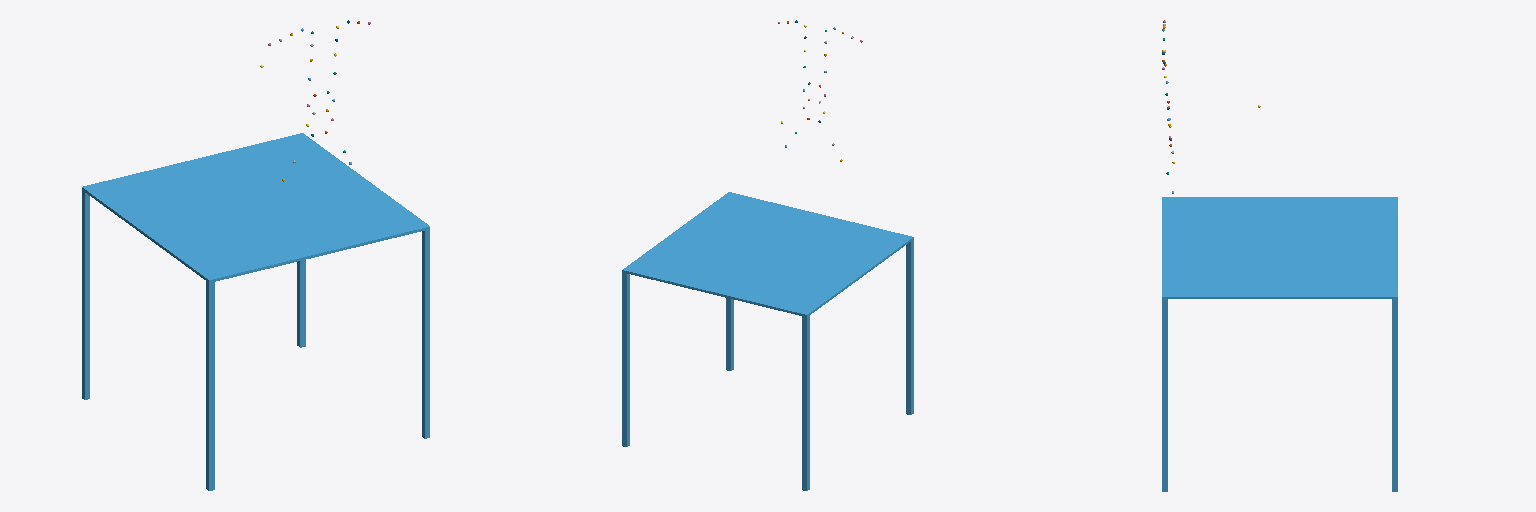
The robot description file, URDF, robot "p72":
<robot name="p72">
  <link name="base_link">  
    <visual>
      <origin xyz="0 0 0" rpy="0 0 0" />
      <geometry>
        <mesh filename="package://rob4fam-models/meshes/P72.stl" scale="0.01 0.01 0.01"/>
      </geometry>
       <material name="Red">
         <color rgba="1. 0.1 0.1 1.0"/>
       </material>
    </visual>
    <collision>
      <origin xyz="0 0 0" rpy="0 0 0" />
      <geometry>
        <mesh filename="package://rob4fam-models/meshes/P72.stl"  scale="0.01 0.01 0.01"/>
      </geometry>
    </collision>
    <collision>
      <origin xyz="0.05 -0.0422962331772 0.0814425373077" />
      <geometry>
        <box size="0.6 0.15 0.15"/>
      </geometry>
    </collision>
    <inertial>
      <mass value="2.2"/>
      <origin xyz="0 0 0" rpy="0 0 0"/>
      <inertia ixx="0.1"  ixy="0"  ixz="0" iyy="0.1" iyz="0" izz="0.1" />
    </inertial>
  </link>

  <!-- Table -->
  <joint name="to_table" type="fixed">
    <parent link="base_link"/>
    <child link="table_link"/>
    <origin xyz="0.0 0.35 -0.8"/>
  </joint>

  <link name="table_link">
    <visual>
      <origin xyz="0 0 .725"/>
      <geometry>
        <box size="0.8 0.8 .01"/>
      </geometry>
    </visual>
    <visual>
      <origin xyz=".39 .39 .36"/>
      <geometry>
        <box size=".02 .02 .72"/>
      </geometry>
    </visual>
    <visual>
      <origin xyz="-.39 .39 .36"/>
      <geometry>
        <box size=".02 .02 .72"/>
      </geometry>
    </visual>
    <visual>
      <origin xyz="-.39 -.39 .36"/>
      <geometry>
        <box size=".02 .02 .72"/>
      </geometry>
    </visual>
    <visual>
      <origin xyz=".39 -.39 .36"/>
      <geometry>
        <box size=".02 .02 .72"/>
      </geometry>
    </visual>

    <collision>
      <origin xyz="0 0 .725"/>
      <geometry>
        <box size="0.84 .84 .01"/>
      </geometry>
    </collision>
    <collision>
      <origin xyz=".39 .39 .36"/>
      <geometry>
        <box size=".02 .02 .72"/>
      </geometry>
    </collision>
    <collision>
      <origin xyz="-.39 .39 .36"/>
      <geometry>
        <box size=".02 .02 .72"/>
      </geometry>
    </collision>
    <collision>
      <origin xyz="-.39 -.39 .36"/>
      <geometry>
        <box size=".02 .02 .72"/>
      </geometry>
    </collision>
    <collision>
      <origin xyz=".39 -.39 .36"/>
      <geometry>
        <box size=".02 .02 .72"/>
      </geometry>
    </collision>
    <inertial>
      <mass value="2.2"/>
      <origin xyz="0 0 0.65" rpy="0 0 0"/>
      <inertia ixx="0.1"  ixy="0"  ixz="0" iyy="0.1" iyz="0" izz="0.1" />
    </inertial>
  </link>

    

     
      <link name="tag36_11_00015">
        <visual>
          <geometry>
            <mesh filename="package://gerard_bauzil/meshes/apriltag_36h11/tag36_11_00015.dae" scale="0.0845 0.0845 1."/>
          </geometry>
        </visual>
      </link>
      <joint name="to_tag_00015" type="fixed">
        <parent link="base_link"/>
        <child link="tag36_11_00015"/>
        <origin xyz="-0.132714992453 -0.0338492746834 0.546713277339" rpy="1.63558443485 -0.0100636021863 -0.0123677826844"/>
      </joint>
      <link name="tag36_11_00001">
        <visual>
          <geometry>
            <mesh filename="package://gerard_bauzil/meshes/apriltag_36h11/tag36_11_00001.dae" scale="0.0845 0.0845 1."/>
          </geometry>
        </visual>
      </link>
      <joint name="to_tag_00001" type="fixed">
        <parent link="base_link"/>
        <child link="tag36_11_00001"/>
        <origin xyz="0.18653859187 -0.0196014914218 0.269465194263" rpy="1.63558746674 -0.0144699196329 -0.0126531905553"/>
      </joint>
      <link name="tag36_11_00005">
        <visual>
          <geometry>
            <mesh filename="package://gerard_bauzil/meshes/apriltag_36h11/tag36_11_00005.dae" scale="0.0845 0.0845 1."/>
          </geometry>
        </visual>
      </link>
      <joint name="to_tag_00005" type="fixed">
        <parent link="base_link"/>
        <child link="tag36_11_00005"/>
        <origin xyz="-0.135645574854 -0.0157158111433 0.267751334311" rpy="1.63558180009 -0.00482257928219 -0.012027253329"/>
      </joint>
      <link name="tag36_11_00006">
        <visual>
          <geometry>
            <mesh filename="package://gerard_bauzil/meshes/apriltag_36h11/tag36_11_00006.dae" scale="0.0845 0.0845 1."/>
          </geometry>
        </visual>
      </link>
      <joint name="to_tag_00006" type="fixed">
        <parent link="base_link"/>
        <child link="tag36_11_00006"/>
        <origin xyz="0.134585443857 -0.0411164973514 0.610456902789" rpy="1.63559209727 0.0180326638639 -0.0105442059083"/>
      </joint>
      <link name="tag36_11_00013">
        <visual>
          <geometry>
            <mesh filename="package://gerard_bauzil/meshes/apriltag_36h11/tag36_11_00013.dae" scale="0.0845 0.0845 1."/>
          </geometry>
        </visual>
      </link>
      <joint name="to_tag_00013" type="fixed">
        <parent link="base_link"/>
        <child link="tag36_11_00013"/>
        <origin xyz="0.304944047226 -0.0287312242645 0.388801820905" rpy="1.6355848352 -0.00977457775816 -0.0123488862354"/>
      </joint>
      <link name="tag36_11_00014">
        <visual>
          <geometry>
            <mesh filename="package://gerard_bauzil/meshes/apriltag_36h11/tag36_11_00014.dae" scale="0.0845 0.0845 1."/>
          </geometry>
        </visual>
      </link>
      <joint name="to_tag_00014" type="fixed">
        <parent link="base_link"/>
        <child link="tag36_11_00014"/>
        <origin xyz="0.296827784967 -0.045124035261 0.642929685157" rpy="1.63558319815 0.00794270375588 -0.0111994215125"/>
      </joint>
      <link name="tag36_11_00100">
        <visual>
          <geometry>
            <mesh filename="package://gerard_bauzil/meshes/apriltag_36h11/tag36_11_00100.dae" scale="0.06 0.06 1."/>
          </geometry>
        </visual>
      </link>
      <joint name="to_tag_00100" type="fixed">
        <parent link="base_link"/>
        <child link="tag36_11_00100"/>
        <origin xyz="0.0222953128123 -0.0362667618772 0.555983733047" rpy="1.63558356747 -0.00859777214559 -0.0122723765882"/>
      </joint>
      <link name="tag36_11_00101">
        <visual>
          <geometry>
            <mesh filename="package://gerard_bauzil/meshes/apriltag_36h11/tag36_11_00101.dae" scale="0.06 0.06 1."/>
          </geometry>
        </visual>
      </link>
      <joint name="to_tag_00101" type="fixed">
        <parent link="base_link"/>
        <child link="tag36_11_00101"/>
        <origin xyz="0.0256081102055 -0.0478418738267 0.733793315777" rpy="1.63558263935 -0.00712741235334 -0.0121767582087"/>
      </joint>
      <link name="tag36_11_00102">
        <visual>
          <geometry>
            <mesh filename="package://gerard_bauzil/meshes/apriltag_36h11/tag36_11_00102.dae" scale="0.06 0.06 1."/>
          </geometry>
        </visual>
      </link>
      <joint name="to_tag_00102" type="fixed">
        <parent link="base_link"/>
        <child link="tag36_11_00102"/>
        <origin xyz="0.0141243882761 -0.0182143058635 0.279217289181" rpy="1.63558183717 -0.000856455009196 -0.0117701935693"/>
      </joint>
      <link name="tag36_11_00002">
        <visual>
          <geometry>
            <mesh filename="package://gerard_bauzil/meshes/apriltag_36h11/tag36_11_00002.dae" scale="0.053 0.053 1."/>
          </geometry>
        </visual>
      </link>
      <joint name="to_tag_00002" type="fixed">
        <parent link="base_link"/>
        <child link="tag36_11_00002"/>
        <origin xyz="0.0104561589879 0.288536226701 0.360323280647" rpy="1.50053173786 0.00105371770934 -1.53741961529"/>
      </joint>
      <link name="tag36_11_00003">
        <visual>
          <geometry>
            <mesh filename="package://gerard_bauzil/meshes/apriltag_36h11/tag36_11_00003.dae" scale="0.053 0.053 1."/>
          </geometry>
        </visual>
      </link>
      <joint name="to_tag_00003" type="fixed">
        <parent link="base_link"/>
        <child link="tag36_11_00003"/>
        <origin xyz="0.0184630884827 0.0420107715974 0.356877816035" rpy="1.5004709021 0.0414307727582 -1.54026319755"/>
      </joint>
      <link name="tag36_11_00004">
        <visual>
          <geometry>
            <mesh filename="package://gerard_bauzil/meshes/apriltag_36h11/tag36_11_00004.dae" scale="0.053 0.053 1."/>
          </geometry>
        </visual>
      </link>
      <joint name="to_tag_00004" type="fixed">
        <parent link="base_link"/>
        <child link="tag36_11_00004"/>
        <origin xyz="0.0368730299806 0.0943526856921 0.643182175429" rpy="1.50040545392 0.0598893113774 -1.54156559929"/>
      </joint>

      <link name="hole_00_link">
        <visual>
          <geometry>
            <sphere radius="0.005" />
          </geometry>
        </visual>
      </link>
      <joint name="to_hole_00" type="fixed">
        <parent link="base_link"/>
        <child link="hole_00_link"/>
        <origin xyz="-0.176928457126 -0.0426254968751 0.689964585371" rpy="-0.0640310506764 -0.0647850606345 1.55908159829"/>
      </joint>
      <link name="hole_01_link">
        <visual>
          <geometry>
            <sphere radius="0.005" />
          </geometry>
        </visual>
      </link>
      <joint name="to_hole_01" type="fixed">
        <parent link="base_link"/>
        <child link="hole_01_link"/>
        <origin xyz="-0.137661653344 -0.0434392083004 0.695416015586" rpy="-0.0640310506764 -0.0647850606345 1.55908159829"/>
      </joint>
      <link name="hole_02_link">
        <visual>
          <geometry>
            <sphere radius="0.005" />
          </geometry>
        </visual>
      </link>
      <joint name="to_hole_02" type="fixed">
        <parent link="base_link"/>
        <child link="hole_02_link"/>
        <origin xyz="-0.0978615166805 -0.0445778213478 0.70577885156" rpy="-0.0640310506764 -0.0647850606345 1.55908159829"/>
      </joint>
      <link name="hole_03_link">
        <visual>
          <geometry>
            <sphere radius="0.005" />
          </geometry>
        </visual>
      </link>
      <joint name="to_hole_03" type="fixed">
        <parent link="base_link"/>
        <child link="hole_03_link"/>
        <origin xyz="-0.0600048570023 -0.0455451819336 0.713853102069" rpy="-0.0640310506764 -0.0647850606345 1.55908159829"/>
      </joint>
      <link name="hole_04_link">
        <visual>
          <geometry>
            <sphere radius="0.005" />
          </geometry>
        </visual>
      </link>
      <joint name="to_hole_04" type="fixed">
        <parent link="base_link"/>
        <child link="hole_04_link"/>
        <origin xyz="-0.0232936406332 -0.0447700767339 0.695277559424" rpy="-0.0640310506764 -0.0647850606345 1.55908159829"/>
      </joint>
      <link name="hole_05_link">
        <visual>
          <geometry>
            <sphere radius="0.005" />
          </geometry>
        </visual>
      </link>
      <joint name="to_hole_05" type="fixed">
        <parent link="base_link"/>
        <child link="hole_05_link"/>
        <origin xyz="0.0670723685411 -0.045763170374 0.694266959116" rpy="-0.0640310506764 -0.0647850606345 1.55908159829"/>
      </joint>
      <link name="hole_06_link">
        <visual>
          <geometry>
            <sphere radius="0.005" />
          </geometry>
        </visual>
      </link>
      <joint name="to_hole_06" type="fixed">
        <parent link="base_link"/>
        <child link="hole_06_link"/>
        <origin xyz="0.105905002358 -0.0468052879326 0.703317209679" rpy="-0.0640310506764 -0.0647850606345 1.55908159829"/>
      </joint>
      <link name="hole_07_link">
        <visual>
          <geometry>
            <sphere radius="0.005" />
          </geometry>
        </visual>
      </link>
      <joint name="to_hole_07" type="fixed">
        <parent link="base_link"/>
        <child link="hole_07_link"/>
        <origin xyz="0.142856109914 -0.0465292608176 0.692390640369" rpy="-0.0640310506764 -0.0647850606345 1.55908159829"/>
      </joint>
      <link name="hole_08_link">
        <visual>
          <geometry>
            <sphere radius="0.005" />
          </geometry>
        </visual>
      </link>
      <joint name="to_hole_08" type="fixed">
        <parent link="base_link"/>
        <child link="hole_08_link"/>
        <origin xyz="0.181026470749 -0.0462934978701 0.681864505279" rpy="-0.0640310506764 -0.0647850606345 1.55908159829"/>
      </joint>
      <link name="hole_09_link">
        <visual>
          <geometry>
            <sphere radius="0.005" />
          </geometry>
        </visual>
      </link>
      <joint name="to_hole_09" type="fixed">
        <parent link="base_link"/>
        <child link="hole_09_link"/>
        <origin xyz="-0.0237518438643 -0.0418160580123 0.649830009357" rpy="-0.0640310506764 -0.0647850606345 1.55908159829"/>
      </joint>
      <link name="hole_10_link">
        <visual>
          <geometry>
            <sphere radius="0.005" />
          </geometry>
        </visual>
      </link>
      <joint name="to_hole_10" type="fixed">
        <parent link="base_link"/>
        <child link="hole_10_link"/>
        <origin xyz="-0.0249829276586 -0.0384936804986 0.598844502718" rpy="-0.0640310506764 -0.0647850606345 1.55908159829"/>
      </joint>
      <link name="hole_11_link">
        <visual>
          <geometry>
            <sphere radius="0.005" />
          </geometry>
        </visual>
      </link>
      <joint name="to_hole_11" type="fixed">
        <parent link="base_link"/>
        <child link="hole_11_link"/>
        <origin xyz="-0.0268815925134 -0.0341281796893 0.531901881463" rpy="-0.0640310506764 -0.0647850606345 1.55908159829"/>
      </joint>
      <link name="hole_12_link">
        <visual>
          <geometry>
            <sphere radius="0.005" />
          </geometry>
        </visual>
      </link>
      <joint name="to_hole_12" type="fixed">
        <parent link="base_link"/>
        <child link="hole_12_link"/>
        <origin xyz="0.0633178886817 -0.0350857870526 0.530374400734" rpy="-0.0640310506764 -0.0647850606345 1.55908159829"/>
      </joint>
      <link name="hole_13_link">
        <visual>
          <geometry>
            <sphere radius="0.005" />
          </geometry>
        </visual>
      </link>
      <joint name="to_hole_13" type="fixed">
        <parent link="base_link"/>
        <child link="hole_13_link"/>
        <origin xyz="0.0640392969511 -0.0393637933404 0.596181043155" rpy="-0.0640310506764 -0.0647850606345 1.55908159829"/>
      </joint>
      <link name="hole_14_link">
        <visual>
          <geometry>
            <sphere radius="0.005" />
          </geometry>
        </visual>
      </link>
      <joint name="to_hole_14" type="fixed">
        <parent link="base_link"/>
        <child link="hole_14_link"/>
        <origin xyz="0.0657666897409 -0.0427871920598 0.648633972298" rpy="-0.0640310506764 -0.0647850606345 1.55908159829"/>
      </joint>
      <link name="hole_15_link">
        <visual>
          <geometry>
            <sphere radius="0.005" />
          </geometry>
        </visual>
      </link>
      <joint name="to_hole_15" type="fixed">
        <parent link="base_link"/>
        <child link="hole_15_link"/>
        <origin xyz="-0.00609446116928 -0.0303256906495 0.469540645645" rpy="-0.0640310506764 -0.0647850606345 1.55908159829"/>
      </joint>
      <link name="hole_16_link">
        <visual>
          <geometry>
            <sphere radius="0.005" />
          </geometry>
        </visual>
      </link>
      <joint name="to_hole_16" type="fixed">
        <parent link="base_link"/>
        <child link="hole_16_link"/>
        <origin xyz="-0.0292502336407 -0.0280059504154 0.437967669102" rpy="-0.0640310506764 -0.0647850606345 1.55908159829"/>
      </joint>
      <link name="hole_17_link">
        <visual>
          <geometry>
            <sphere radius="0.005" />
          </geometry>
        </visual>
      </link>
      <joint name="to_hole_17" type="fixed">
        <parent link="base_link"/>
        <child link="hole_17_link"/>
        <origin xyz="-0.00731579572326 -0.026142028329 0.405278397034" rpy="-0.0640310506764 -0.0647850606345 1.55908159829"/>
      </joint>
      <link name="hole_18_link">
        <visual>
          <geometry>
            <sphere radius="0.005" />
          </geometry>
        </visual>
      </link>
      <joint name="to_hole_18" type="fixed">
        <parent link="base_link"/>
        <child link="hole_18_link"/>
        <origin xyz="0.0401464642266 -0.0266296585833 0.404224106752" rpy="-0.0640310506764 -0.0647850606345 1.55908159829"/>
      </joint>
      <link name="hole_19_link">
        <visual>
          <geometry>
            <sphere radius="0.005" />
          </geometry>
        </visual>
      </link>
      <joint name="to_hole_19" type="fixed">
        <parent link="base_link"/>
        <child link="hole_19_link"/>
        <origin xyz="0.0628637854246 -0.0289390410639 0.435716609241" rpy="-0.0640310506764 -0.0647850606345 1.55908159829"/>
      </joint>
      <link name="hole_20_link">
        <visual>
          <geometry>
            <sphere radius="0.005" />
          </geometry>
        </visual>
      </link>
      <joint name="to_hole_20" type="fixed">
        <parent link="base_link"/>
        <child link="hole_20_link"/>
        <origin xyz="0.0412119961551 -0.0308154818438 0.468547794796" rpy="-0.0640310506764 -0.0647850606345 1.55908159829"/>
      </joint>
      <link name="hole_21_link">
        <visual>
          <geometry>
            <sphere radius="0.005" />
          </geometry>
        </visual>
      </link>
      <joint name="to_hole_21" type="fixed">
        <parent link="base_link"/>
        <child link="hole_21_link"/>
        <origin xyz="-0.0286726948737 -0.0234943628506 0.368326291342" rpy="-0.0640310506764 -0.0647850606345 1.55908159829"/>
      </joint>
      <link name="hole_22_link">
        <visual>
          <geometry>
            <sphere radius="0.005" />
          </geometry>
        </visual>
      </link>
      <joint name="to_hole_22" type="fixed">
        <parent link="base_link"/>
        <child link="hole_22_link"/>
        <origin xyz="-0.00902062419697 -0.0210895886965 0.327712988093" rpy="-0.0640310506764 -0.0647850606345 1.55908159829"/>
      </joint>
      <link name="hole_23_link">
        <visual>
          <geometry>
            <sphere radius="0.005" />
          </geometry>
        </visual>
      </link>
      <joint name="to_hole_23" type="fixed">
        <parent link="base_link"/>
        <child link="hole_23_link"/>
        <origin xyz="0.0389745252649 -0.0216181776686 0.327193772024" rpy="-0.0640310506764 -0.0647850606345 1.55908159829"/>
      </joint>
      <link name="hole_24_link">
        <visual>
          <geometry>
            <sphere radius="0.005" />
          </geometry>
        </visual>
      </link>
      <joint name="to_hole_24" type="fixed">
        <parent link="base_link"/>
        <child link="hole_24_link"/>
        <origin xyz="0.0596606757314 -0.0244382750723 0.366924686067" rpy="-0.0640310506764 -0.0647850606345 1.55908159829"/>
      </joint>
      <link name="hole_25_link">
        <visual>
          <geometry>
            <sphere radius="0.005" />
          </geometry>
        </visual>
      </link>
      <joint name="to_hole_25" type="fixed">
        <parent link="base_link"/>
        <child link="hole_25_link"/>
        <origin xyz="-0.0723356006168 -0.0152695268592 0.249441000587" rpy="-0.0640310506764 -0.0647850606345 1.55908159829"/>
      </joint>
      <link name="hole_26_link">
        <visual>
          <geometry>
            <sphere radius="0.005" />
          </geometry>
        </visual>
      </link>
      <joint name="to_hole_26" type="fixed">
        <parent link="base_link"/>
        <child link="hole_26_link"/>
        <origin xyz="-0.109180794342 -0.011189717142 0.193211938038" rpy="-0.0640310506764 -0.0647850606345 1.55908159829"/>
      </joint>
      <link name="hole_27_link">
        <visual>
          <geometry>
            <sphere radius="0.005" />
          </geometry>
        </visual>
      </link>
      <joint name="to_hole_27" type="fixed">
        <parent link="base_link"/>
        <child link="hole_27_link"/>
        <origin xyz="0.131627455845 -0.0140994460697 0.194577477321" rpy="-0.0640310506764 -0.0647850606345 1.55908159829"/>
      </joint>
      <link name="hole_28_link">
        <visual>
          <geometry>
            <sphere radius="0.005" />
          </geometry>
        </visual>
      </link>
      <joint name="to_hole_28" type="fixed">
        <parent link="base_link"/>
        <child link="hole_28_link"/>
        <origin xyz="0.0992771197248 -0.0317140358996 0.250164406588" rpy="1.67238186911 0.046367694626 0.0122515208532"/>
      </joint>
      <link name="hole_29_link">
        <visual>
          <geometry>
            <sphere radius="0.005" />
          </geometry>
        </visual>
      </link>
      <joint name="to_hole_29" type="fixed">
        <parent link="base_link"/>
        <child link="hole_29_link"/>
        <origin xyz="-0.0198186163 0.278476244129 0.447510946676" rpy="1.54568771145 0.0584573494756 -1.63551830626"/>
      </joint>
</robot>

--- Render facts (derived) ---
The picture shows the robot from 3 angles, left to right: view 1: azimuth 30°, elevation 25°; view 2: azimuth 150°, elevation 25°; view 3: azimuth 270°, elevation 25°; orthographic projection.
Robot: p72 — 44 links, 43 joints (43 fixed); root link base_link; default pose: every joint at zero.
Visible links, largest first — view 1: table_link; view 2: table_link; view 3: table_link.
Link boxes in pixels (bbox=[...]): table_link: bbox=[82, 133, 429, 490]; table_link: bbox=[622, 192, 913, 490]; table_link: bbox=[1162, 197, 1397, 491].
Bounding box of the posed robot: 0.8 × 0.8018 × 1.52 m (x, y, z).
Meshes: 13 distinct files referenced, 0 mesh visuals loaded (none loaded); not drawn: 13 (reference not matched to a file when rendering).
